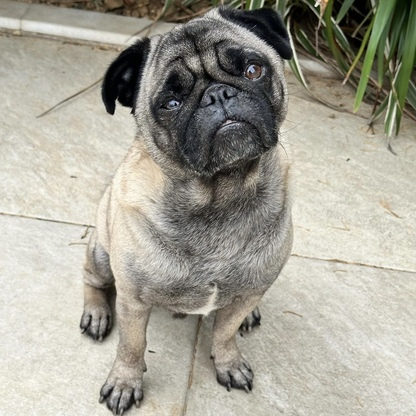Pug: (72, 3, 310, 416)
